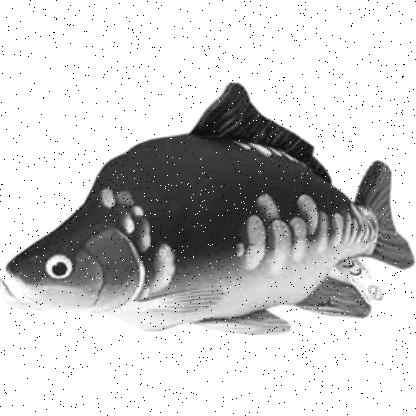ikan-mas: (5, 81, 415, 329)
